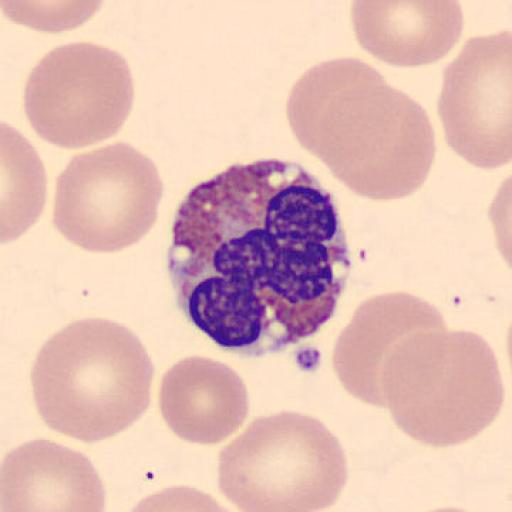RBC: (285, 54, 437, 202), (29, 316, 156, 446), (314, 75, 438, 203), (379, 327, 506, 449), (331, 288, 453, 408), (214, 407, 350, 512), (51, 141, 165, 255), (22, 39, 136, 151), (285, 54, 396, 167), (436, 27, 512, 171), (157, 353, 251, 447), (2, 436, 108, 512), (350, 0, 466, 69), (2, 120, 48, 245), (116, 482, 241, 512), (4, 0, 106, 35), (488, 168, 512, 274), (407, 503, 502, 512)
WBC: (165, 156, 351, 357)
